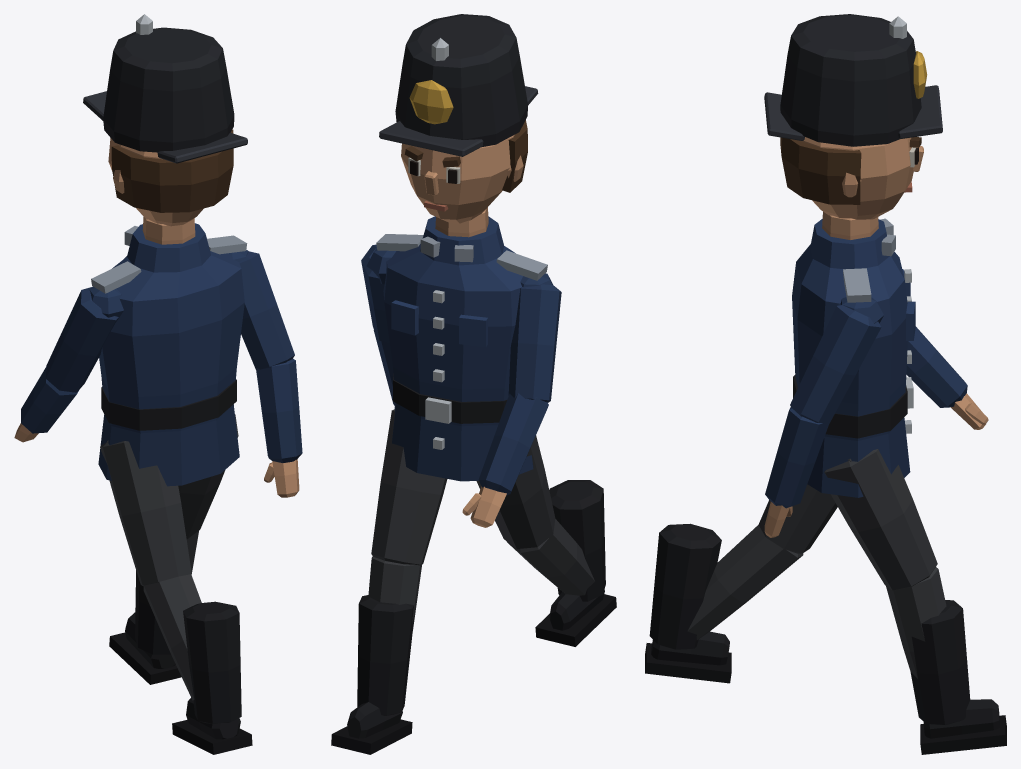
File: chr_police2_w2.glb
3 views of the same model, side by side, from view 1: azimuth 30°, elevation 25°; view 2: azimuth 150°, elevation 25°; view 3: azimuth 270°, elevation 25° (orthographic). The views are drawn at different scales.
Visible parts, largest first — view 1: chr_police2_w2; view 2: chr_police2_w2; view 3: chr_police2_w2.
Boxes of the visible parts, box(x1,y1,x2,y2) form: chr_police2_w2: box(14, 14, 302, 754); chr_police2_w2: box(331, 14, 616, 754); chr_police2_w2: box(645, 14, 1006, 754).
Size of the model in its own units: 0.5607 by 1.76 by 0.8123.
